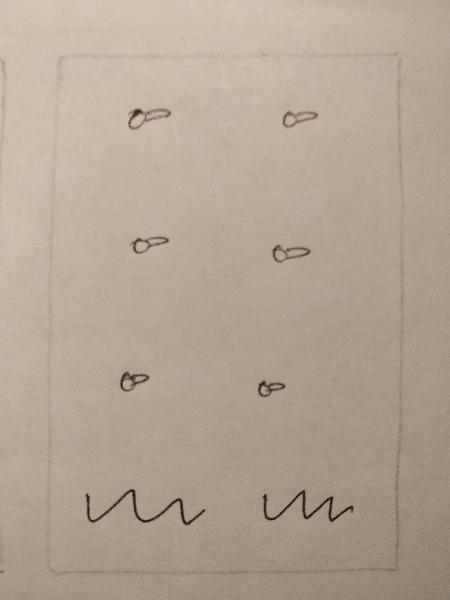switch: (115, 96, 185, 137), (106, 357, 163, 406), (261, 229, 318, 277), (269, 97, 330, 140), (122, 224, 179, 264), (243, 369, 299, 408)
text: (70, 479, 214, 540), (250, 477, 365, 536)
